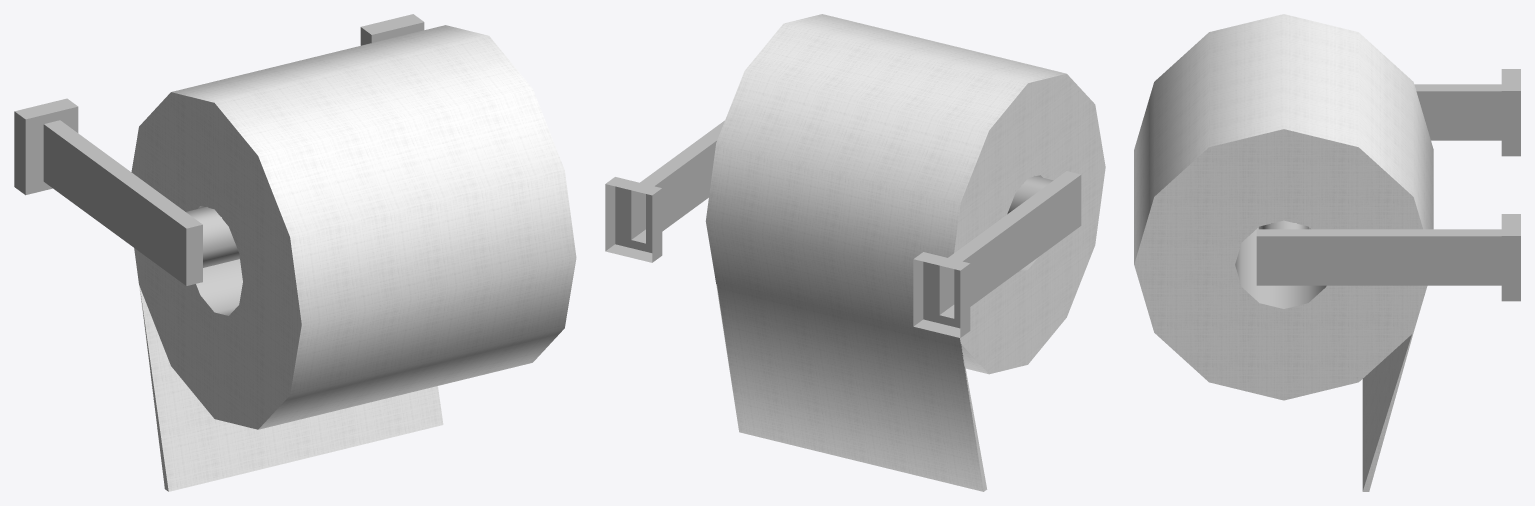
File: Toilet_Paper_Holder.fbx
3 views of the same model, side by side, from view 1: azimuth 30°, elevation 25°; view 2: azimuth 150°, elevation 25°; view 3: azimuth 270°, elevation 25° (orthographic). The views are drawn at different scales.
Visible parts, largest first — view 1: Toilet_Paper_Holder; view 2: Toilet_Paper_Holder; view 3: Toilet_Paper_Holder.
Part boxes in pixels (x1,y1,x2,y2): Toilet_Paper_Holder: (14,14,576,491); Toilet_Paper_Holder: (605,14,1105,491); Toilet_Paper_Holder: (1134,14,1520,491).
Size of the model in its own units: 14.52 by 14.7 by 14.2.
